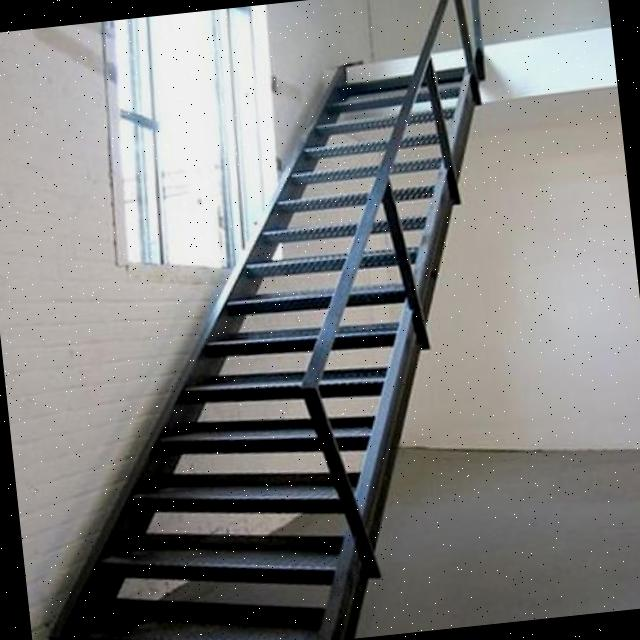stairs: (0, 46, 531, 640)
